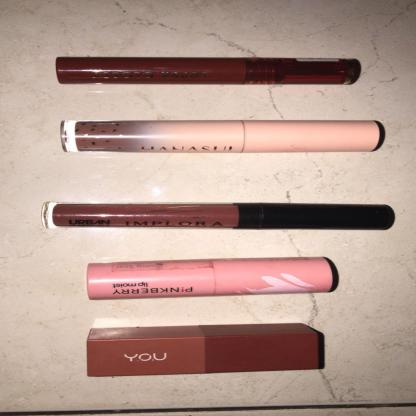lipstick: (22, 102, 397, 167), (28, 180, 416, 240), (54, 314, 360, 385), (43, 245, 370, 305), (38, 40, 388, 92)
